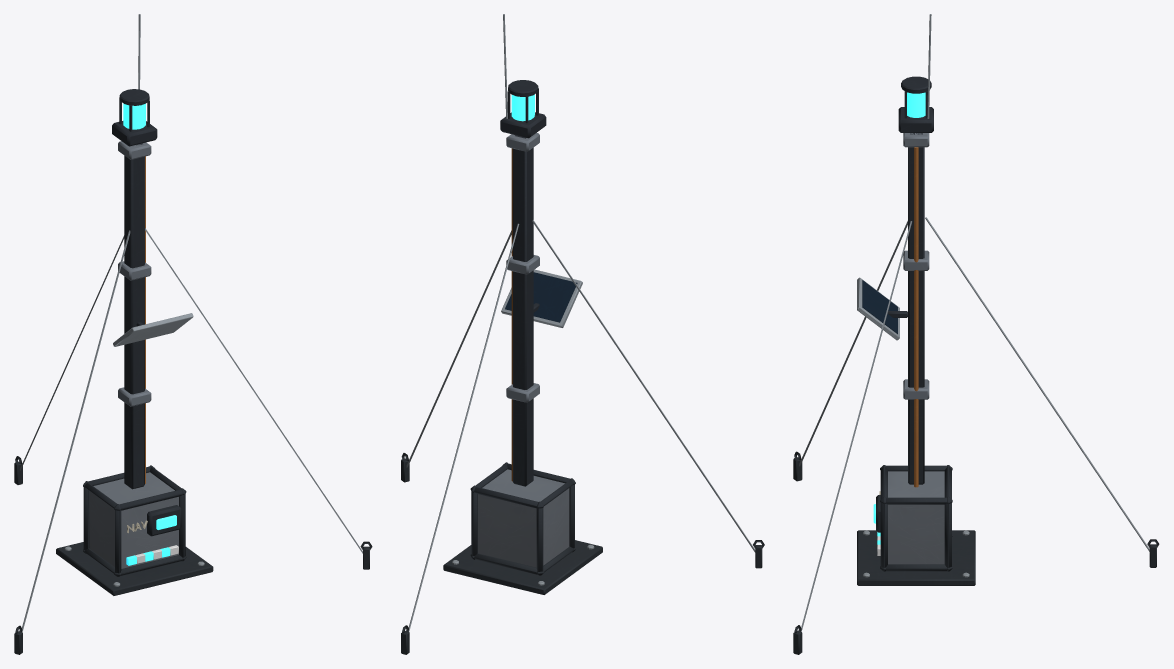
The model's file is navigation_beacon.glb.
3 renders of one model, left to right at view 1: azimuth 30°, elevation 25°; view 2: azimuth 150°, elevation 25°; view 3: azimuth 270°, elevation 25°, orthographic. The views are drawn at different scales.
Visible parts, largest first — view 1: navigation_beacon; view 2: navigation_beacon; view 3: navigation_beacon.
Boxes of the visible parts, bbox=[...] form: navigation_beacon: bbox=[14, 14, 372, 654]; navigation_beacon: bbox=[401, 14, 764, 654]; navigation_beacon: bbox=[793, 14, 1159, 654].
Size of the model in its own units: 3.56 by 5.2 by 3.09.
10 materials, 7 textured.
